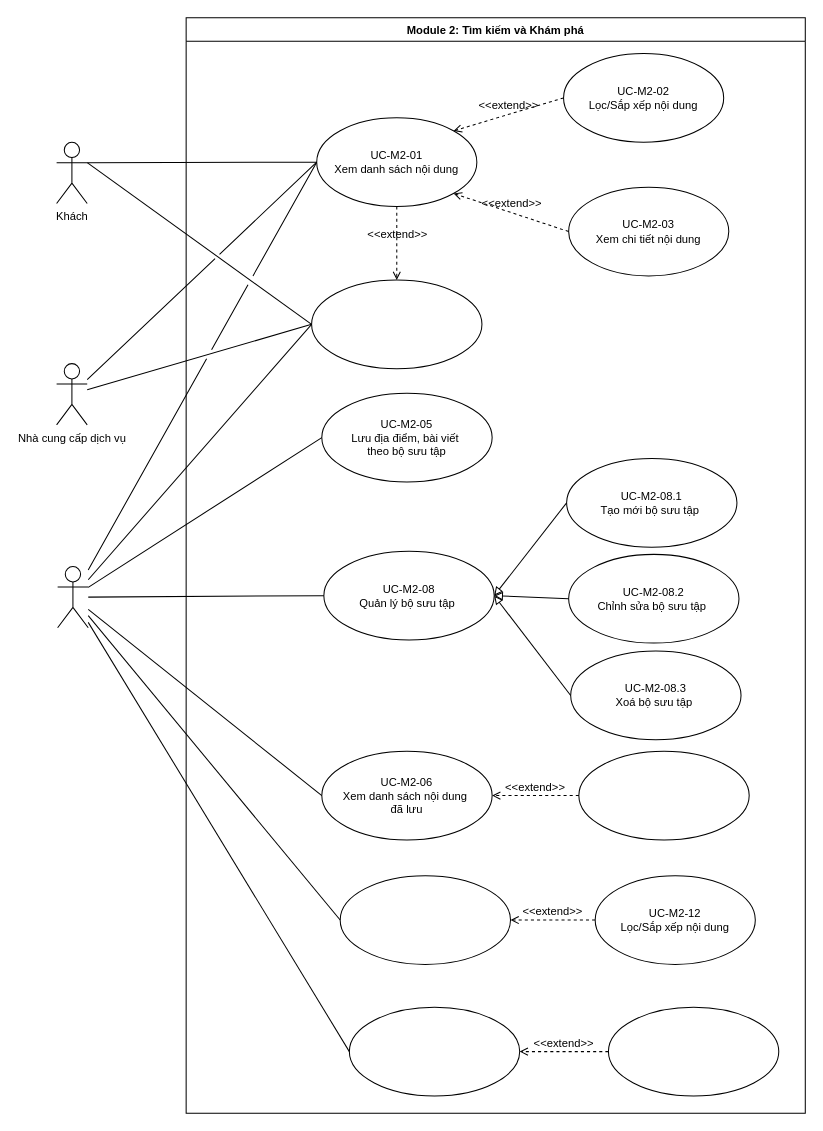
Some shapes in this 823 by 1131 pixel diagram are drawn without their labels. Each missing label, with the box of its shape:
Khách du lịch: (57, 566, 88, 628)
UC-M2-04 Tìm kiếm nội dung: (311, 279, 482, 369)
UC-M2-07 Xem chi tiết nội dung đã lưu: (578, 750, 749, 840)
UC-M2-09 Xem danh sách đang theo dõi: (339, 875, 511, 964)
UC-M2-10 Theo dõi chủ đề/ địa điểm: (348, 1006, 520, 1096)
UC-M2-11 Bỏ theo dõi chủ đề/ địa điểm: (607, 1006, 779, 1096)
